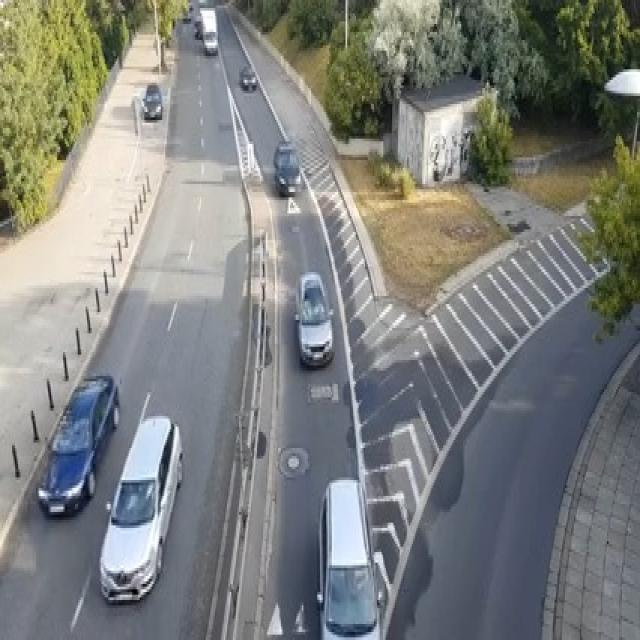car: (98, 394, 183, 602), (36, 371, 119, 517), (316, 478, 388, 638), (293, 269, 333, 368), (274, 141, 300, 195), (141, 83, 162, 120), (239, 64, 257, 91), (203, 27, 218, 53), (194, 13, 201, 38), (182, 14, 191, 22)
